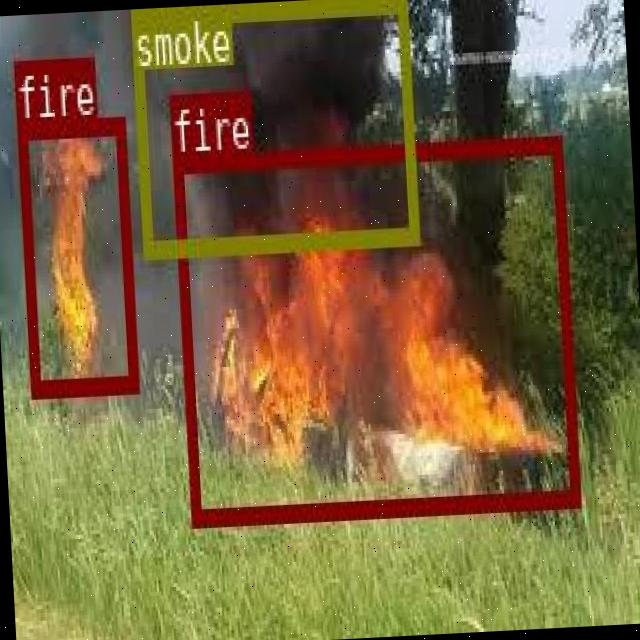fire: (172, 132, 578, 524), (16, 115, 135, 394)
smoke: (128, 0, 417, 253)
